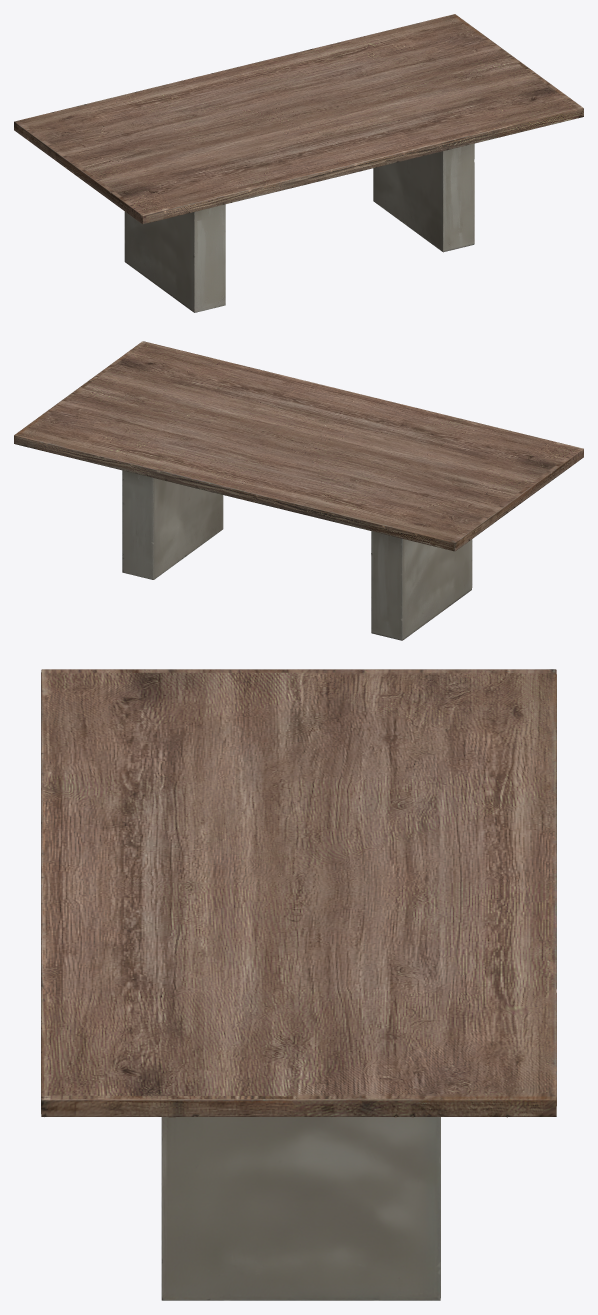
Rendered from 10-12-seat-extra-large-rectangular-oak-and-concrete-dining-table.glb.
3 views of the same model, one above another, from view 1: azimuth 30°, elevation 25°; view 2: azimuth 150°, elevation 25°; view 3: azimuth 270°, elevation 25° (orthographic). The views are drawn at different scales.
Visible parts, largest first — view 1: Mesh_0.001; view 2: Mesh_0.001; view 3: Mesh_0.001.
Part boxes in pixels (box(x1,y1,x2,y2)): Mesh_0.001: box(14, 14, 583, 312); Mesh_0.001: box(14, 341, 583, 640); Mesh_0.001: box(41, 669, 556, 1300).
Size of the model in its own units: 3 by 0.9049 by 1.52.
1 material, 1 textured.
